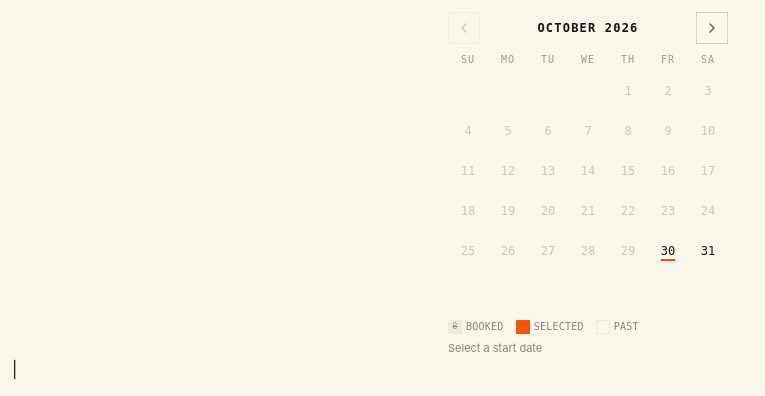
Test: AvailabilityCalendar › rejects a range across a booked day with the server message
Click the button named "Next month". click: (712, 28)
box: [696,12,728,44]
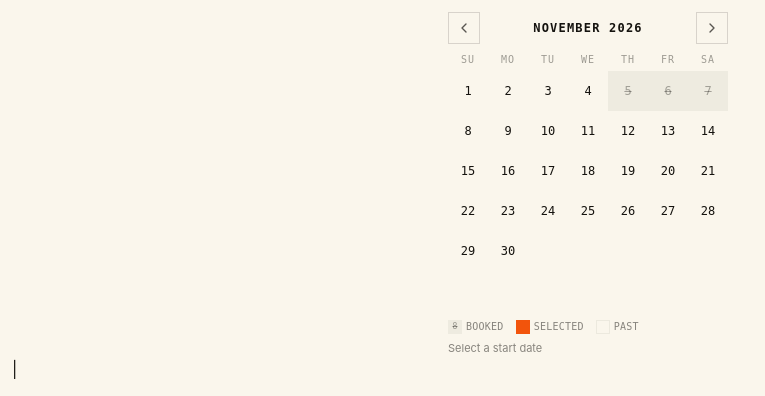
Click the button named "Tuesday, November 3, 2026". click: (548, 91)
box: [528,71,568,111]
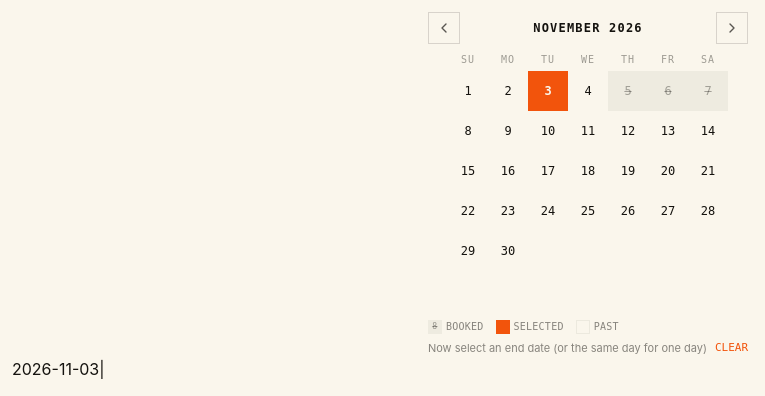
Click the button named "Monday, November 9, 2026". click: (508, 131)
box: [488,111,528,151]
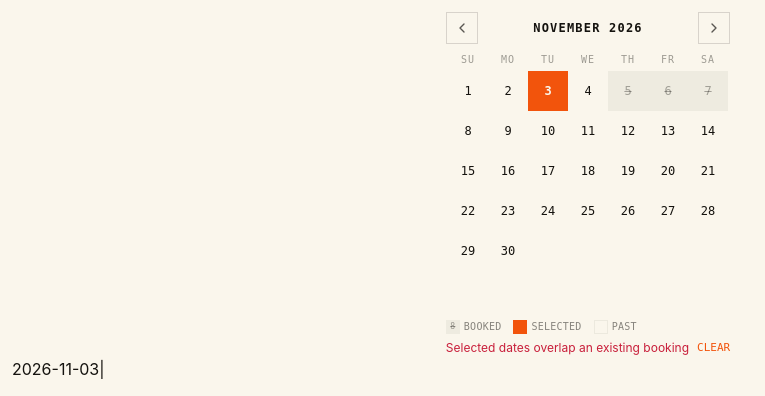
Expected: the text with test id "value" reads "2026-11-03|", [12,358,99,378]
Expected: the message reads "Selected dates overlap an existing booking", [446,340,689,355]
